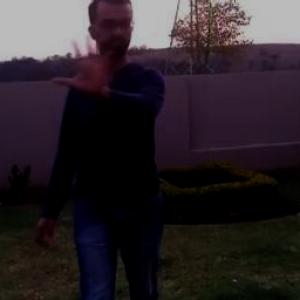follow_hand: (50, 27, 120, 100)
